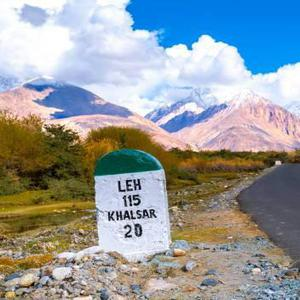kmstone: (89, 145, 176, 261)
